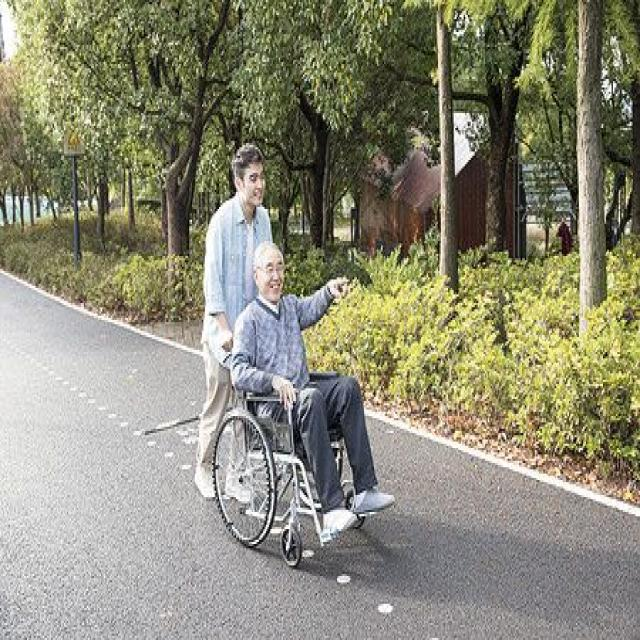wheelchairs: (208, 337, 378, 570)
